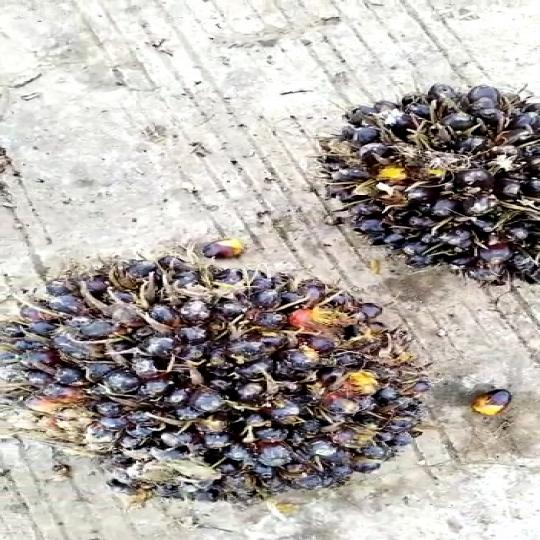mentah: (5, 247, 444, 520), (319, 87, 540, 296)
